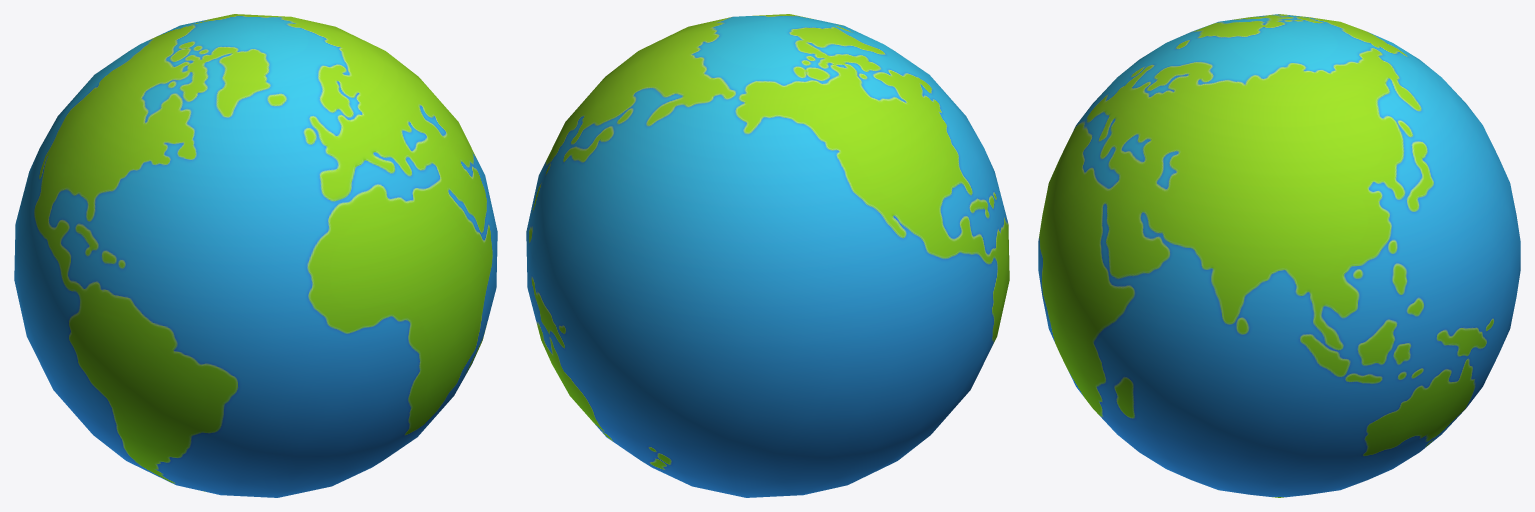
File: Globe.FBX
The picture shows the model from 3 angles, left to right: view 1: azimuth 30°, elevation 25°; view 2: azimuth 150°, elevation 25°; view 3: azimuth 270°, elevation 25°; orthographic projection.
Parts seen in each view (by area): view 1: Globe; view 2: Globe; view 3: Globe.
Part boxes in pixels (x1,y1,x2,y2): Globe: (14,14,497,497); Globe: (526,14,1009,497); Globe: (1038,14,1520,497).
Bounding box in the file's own units: 84.39 × 84.79 × 84.27.
